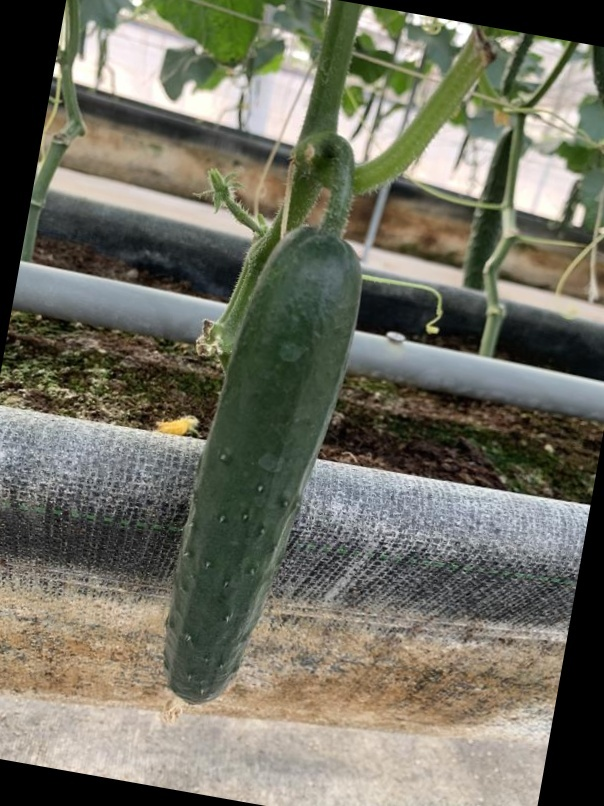mature: (157, 228, 370, 715)
